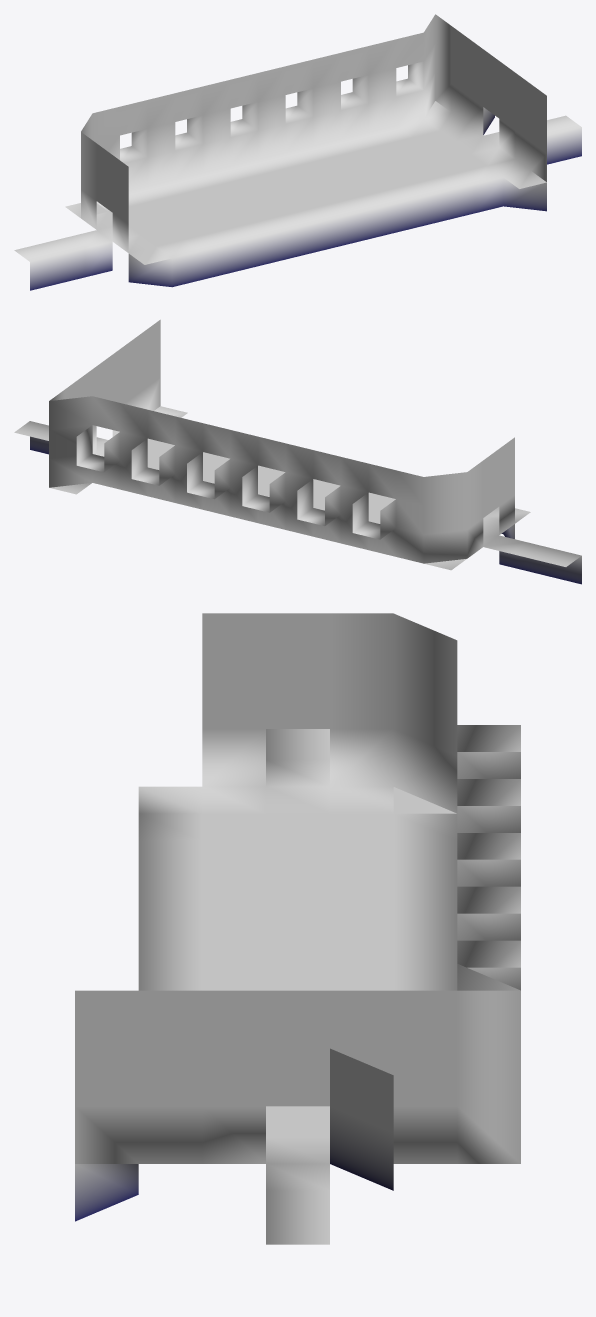
Rendered from oddcare2.obj.
3 renders of one model, top to bottom at view 1: azimuth 30°, elevation 25°; view 2: azimuth 150°, elevation 25°; view 3: azimuth 270°, elevation 25°, orthographic. The views are drawn at different scales.
Parts seen in each view (by area): view 1: Scene; view 2: Scene; view 3: Scene.
Boxes of the visible parts, x1=… form: Scene: x1=14, y1=14, x2=581, y2=290; Scene: x1=14, y1=319, x2=581, y2=584; Scene: x1=75, y1=613, x2=520, y2=1244.
Size of the model in its own units: 20 by 4 by 7.
